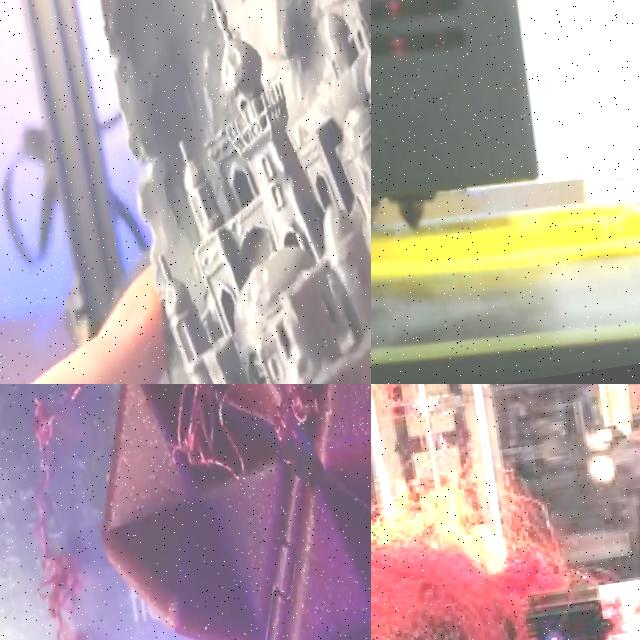spaghetti: (371, 396, 611, 640), (0, 384, 177, 640), (200, 384, 371, 489), (164, 384, 242, 483)
